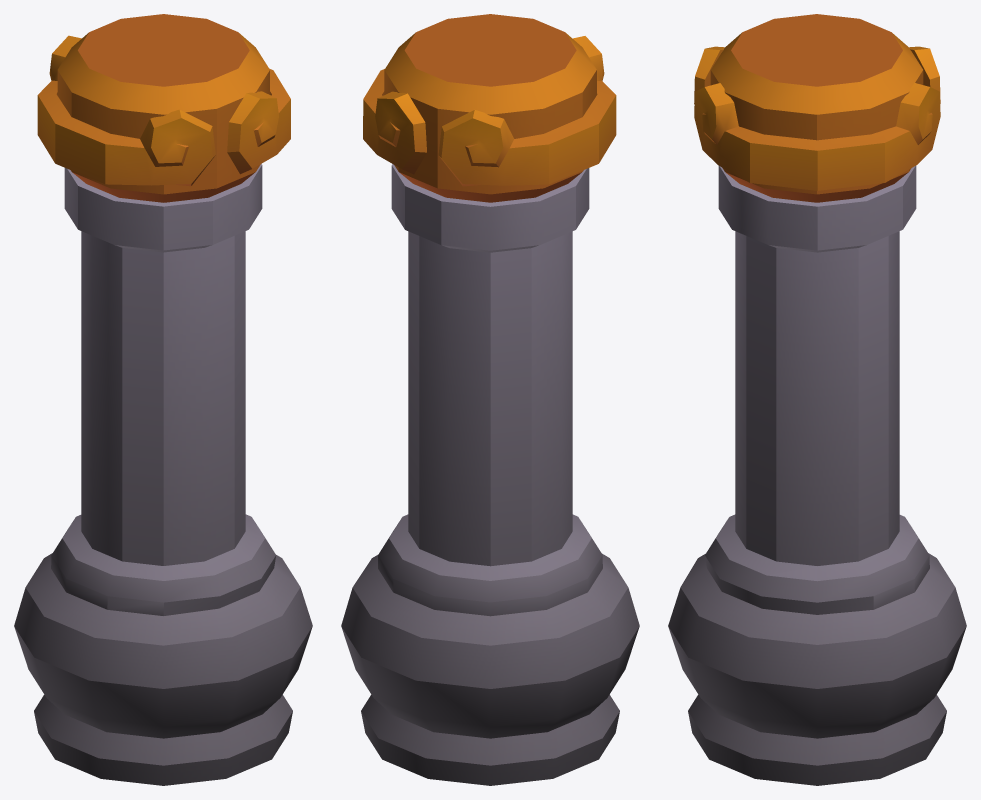
Rendered from pillar_3_long.glb.
3 views of the same model, side by side, from view 1: azimuth 30°, elevation 25°; view 2: azimuth 150°, elevation 25°; view 3: azimuth 270°, elevation 25° (orthographic).
Visible parts, largest first — view 1: pillar_3_long; view 2: pillar_3_long; view 3: pillar_3_long.
Part boxes in pixels (x1=…): pillar_3_long: x1=14, y1=14, x2=312, y2=785; pillar_3_long: x1=341, y1=14, x2=639, y2=785; pillar_3_long: x1=668, y1=14, x2=966, y2=785.
Size of the model in its own units: 1.11 by 2.79 by 1.11.
1 material, 1 textured.
